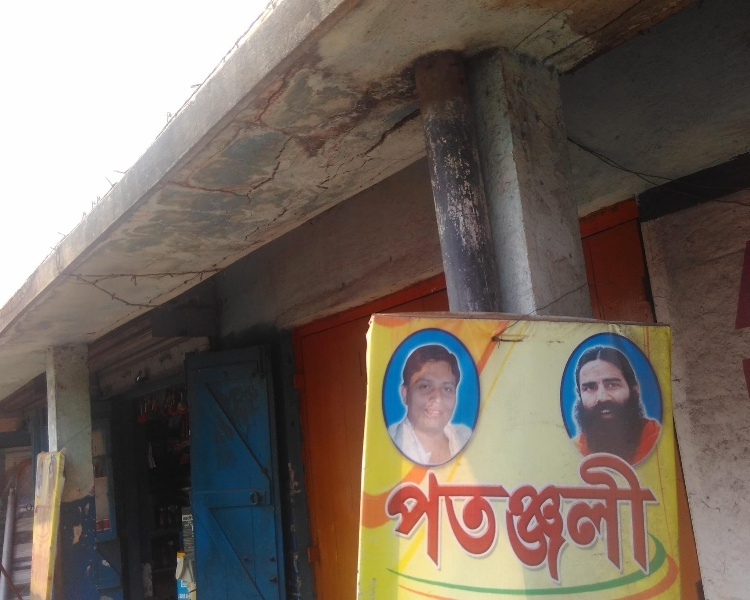text: (33, 451, 48, 595), (401, 447, 416, 587), (417, 447, 432, 587), (433, 447, 448, 587), (449, 447, 464, 587), (465, 447, 480, 587), (481, 447, 496, 587), (497, 447, 512, 587), (513, 447, 528, 587), (529, 447, 544, 587), (545, 447, 560, 587), (561, 447, 576, 587), (577, 447, 592, 587), (593, 447, 608, 587), (609, 447, 624, 587), (625, 447, 640, 587), (641, 447, 656, 587), (386, 447, 400, 587), (49, 451, 62, 595), (24, 451, 32, 595), (657, 447, 662, 587)
